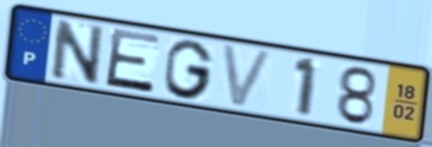1: (291, 56, 318, 120)
8: (336, 65, 379, 127)
E: (102, 26, 164, 96)
G: (162, 38, 216, 101)
N: (50, 16, 107, 87)
V: (218, 41, 278, 111)
